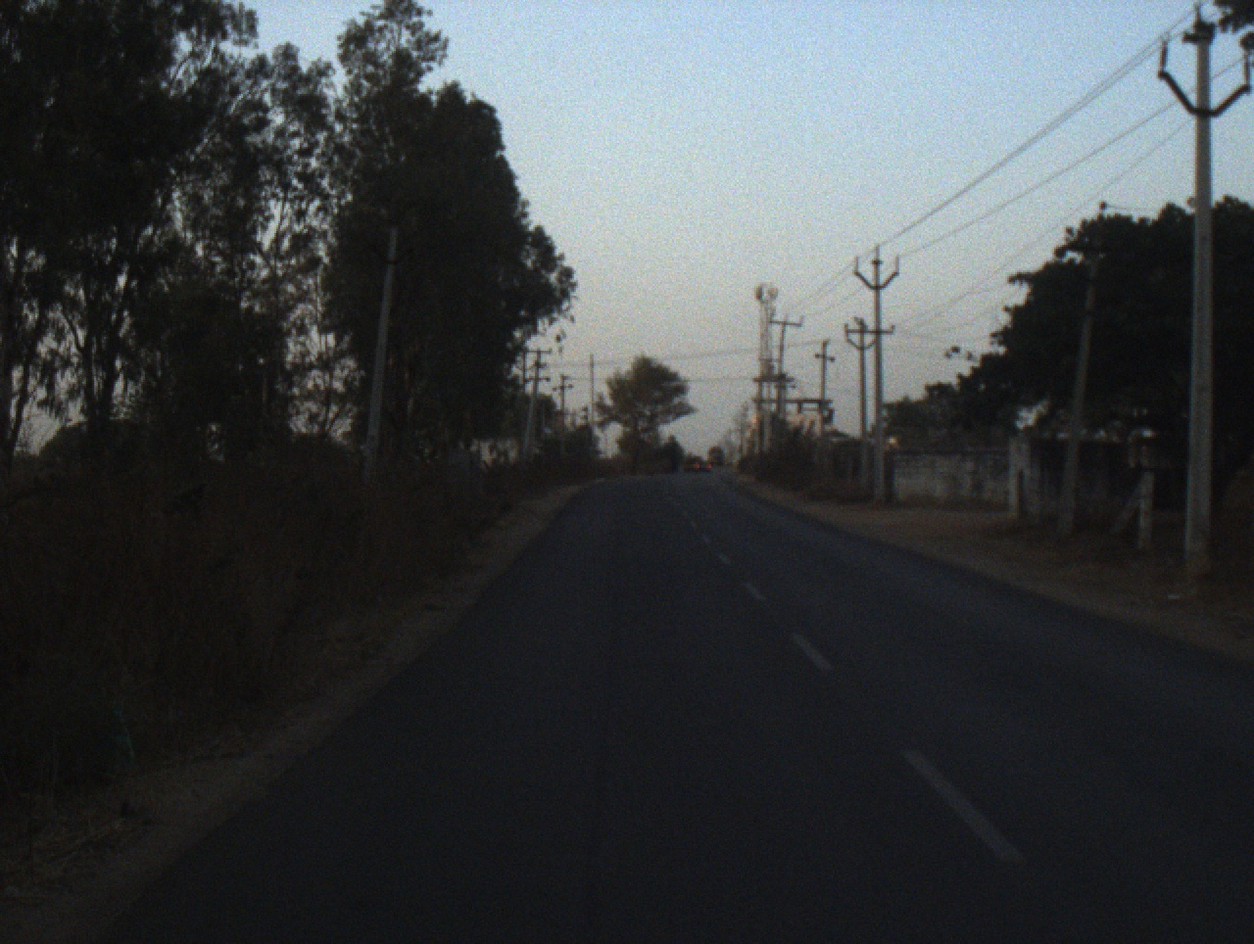autorickshaw: (683, 453, 699, 475)
car: (696, 456, 714, 473)
truck: (707, 445, 725, 466)
